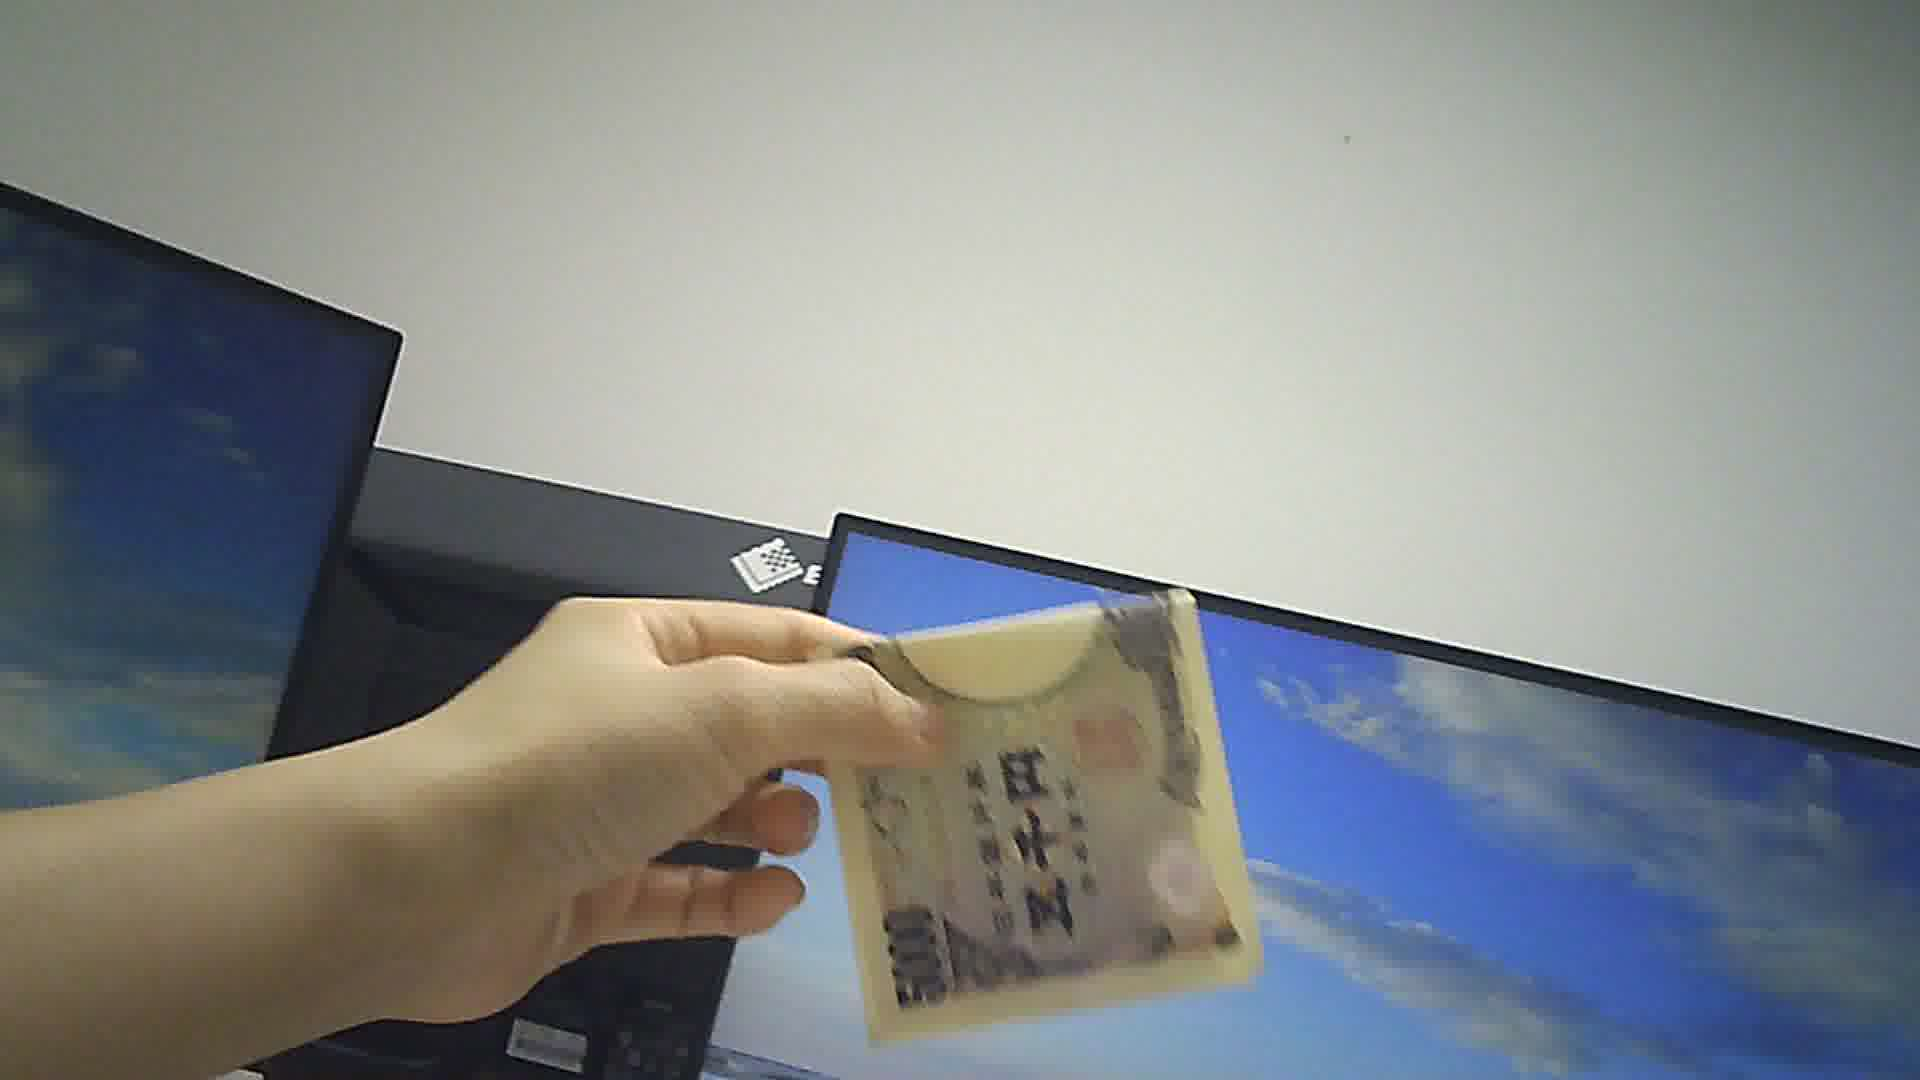5,000 Yen: (796, 593, 1269, 1029)
